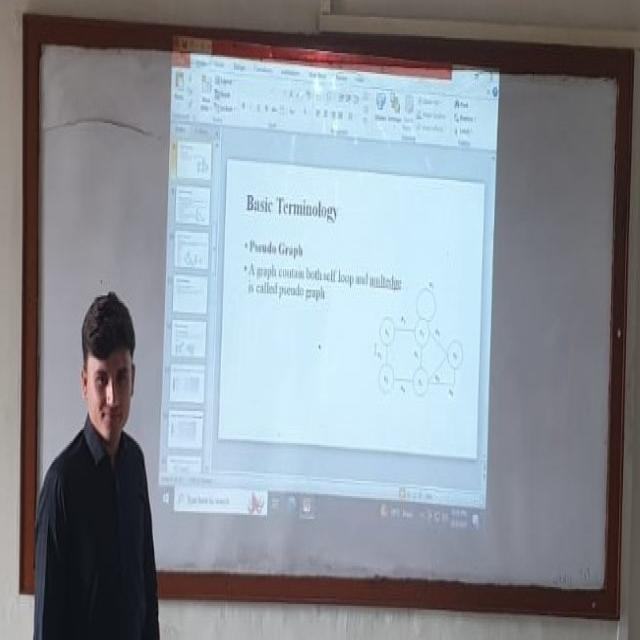Instructor: (46, 259, 150, 640)
Slide: (157, 36, 501, 544)
White-board: (27, 21, 631, 608)
